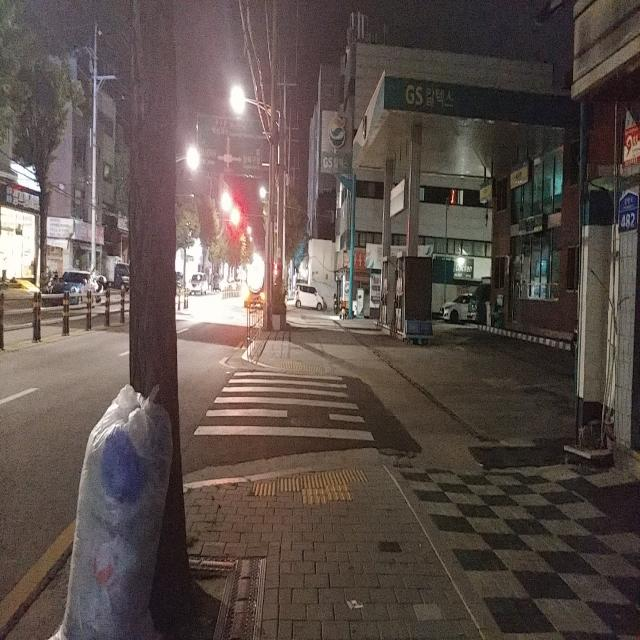횡단보도: (192, 371, 376, 442)
